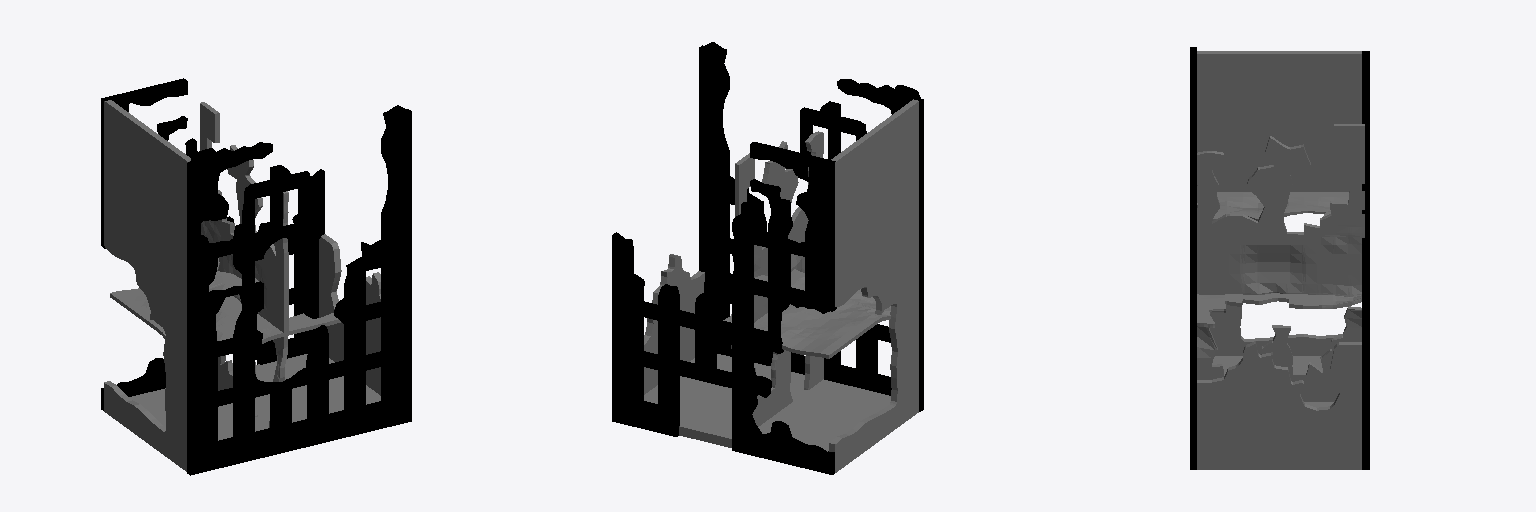
Rendered from Skyscraper.obj.
3 renders of one model, left to right at view 1: azimuth 30°, elevation 25°; view 2: azimuth 150°, elevation 25°; view 3: azimuth 270°, elevation 25°, orthographic.
Parts seen in each view (by area): view 1: Wall_front_geo Skyscraper_grp, Skyscraper_grp Wall_r_geo, Skyscraper_grp Floor_geoShape, Skyscraper_grp Wall_back_geo1, Skyscraper_grp Wall_l_geo; view 2: Skyscraper_grp Wall_back_geo1, Skyscraper_grp Wall_r_geo, Skyscraper_grp Floor_geoShape, Wall_front_geo Skyscraper_grp, Skyscraper_grp Wall_l_geo; view 3: Skyscraper_grp Floor_geoShape, Skyscraper_grp Wall_r_geo, Skyscraper_grp Wall_l_geo, Skyscraper_grp Wall_back_geo1, Wall_front_geo Skyscraper_grp.
Part boxes in pixels (bbox=[...]): Wall_front_geo Skyscraper_grp: bbox=[187, 105, 411, 475]; Skyscraper_grp Wall_r_geo: bbox=[104, 100, 190, 471]; Skyscraper_grp Floor_geoShape: bbox=[110, 102, 380, 440]; Skyscraper_grp Wall_back_geo1: bbox=[101, 78, 324, 410]; Skyscraper_grp Wall_l_geo: bbox=[319, 234, 380, 395]; Skyscraper_grp Wall_back_geo1: bbox=[612, 142, 836, 474]; Skyscraper_grp Wall_r_geo: bbox=[829, 99, 918, 472]; Skyscraper_grp Floor_geoShape: bbox=[644, 131, 890, 451]; Wall_front_geo Skyscraper_grp: bbox=[699, 42, 923, 411]; Skyscraper_grp Wall_l_geo: bbox=[644, 254, 704, 394]; Skyscraper_grp Floor_geoShape: bbox=[1197, 124, 1364, 407]; Skyscraper_grp Wall_r_geo: bbox=[1197, 51, 1361, 355]; Skyscraper_grp Wall_l_geo: bbox=[1197, 341, 1361, 469]; Skyscraper_grp Wall_back_geo1: bbox=[1362, 51, 1369, 469]; Wall_front_geo Skyscraper_grp: bbox=[1190, 47, 1196, 469].
Bounding box in the file's own units: 21.22 × 29.25 × 14.94.